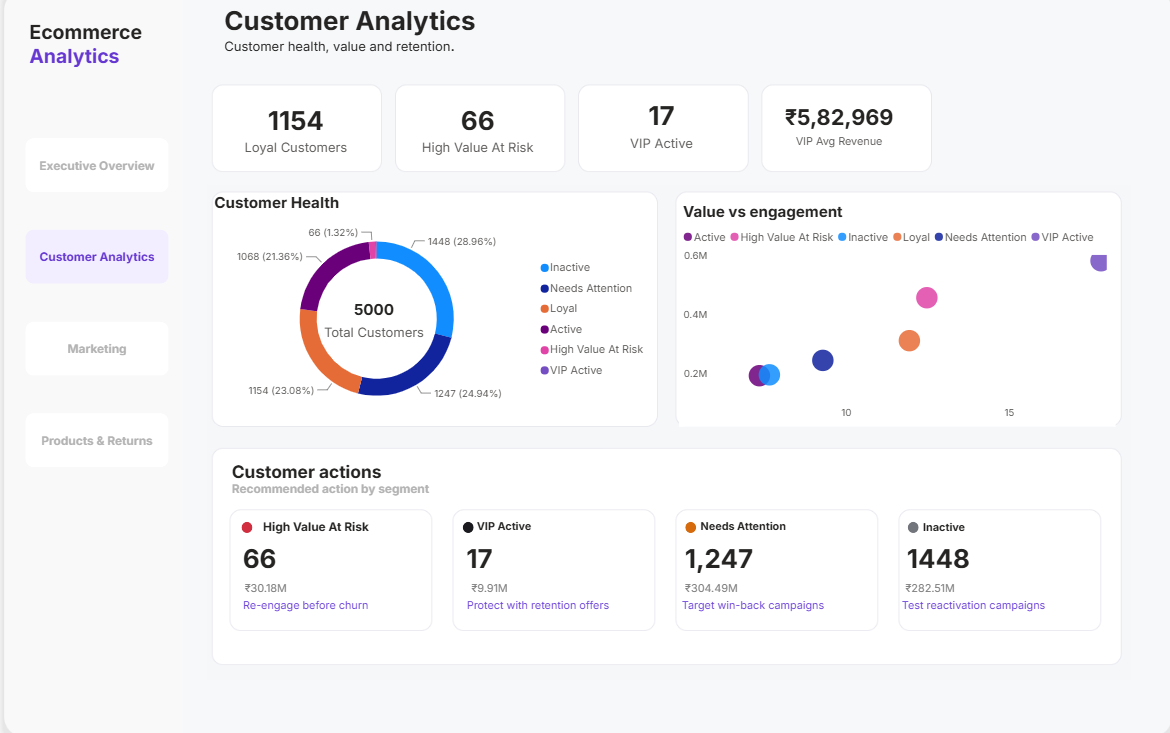

The page's visual inventory and layout, read from the dashboard file:
{"tool":"powerbi","page":{"name":"Customer Analytics","canvas":[1440,920],"ordinal":1},"visuals":[{"type":"card","fields":{"Values":["orders.Total Customers"]},"box":[388,342.7,135.8,118.9],"z":0},{"type":"scatterChart","title":"Value vs engagement","fields":{"Series":["customers.Customer_Segment"],"Category":["customers.Customer_Segment"],"Y":["customers.Avg Customer Revenue"],"X":["customers.Avg Customer Orders"]},"box":[832.1,257.8,538.8,277.9],"z":1000},{"type":"donutChart","title":"Customer Health","fields":{"Category":["customers.Customer_Segment"],"Y":["CountNonNull(customers.Customer_ID)"]},"box":[254.7,247,548,287.1],"z":2000},{"type":"pageNavigator","box":[25.9,178.2,177.5,407.5],"z":3000},{"type":"textbox","box":[25.9,30,177.5,109.6],"z":4000},{"type":"textbox","box":[266,9.3,566,106],"z":5000},{"type":"card","fields":{"Values":["customers.Loyal Customers"]},"box":[254.7,111.1,211.5,111.1],"z":6000},{"type":"card","fields":{"Values":["customers.High Value At Risk"]},"box":[483.2,111.1,203.8,111.1],"z":7000},{"type":"card","fields":{"Values":["customers.VIP Active"]},"box":[708.6,111.1,203.8,100.3],"z":8000},{"type":"card","fields":{"Values":["customers.VIP Avg Revenue"]},"box":[912.4,97.3,234.6,129.7],"z":9000},{"type":"card","fields":{"Values":["customers.High Value At Risk Customers"]},"box":[282.5,673.1,66.4,47.9],"z":10000},{"type":"card","fields":{"Values":["customers.VIP Active"]},"box":[552.7,673.1,66.4,47.9],"z":11000},{"type":"card","fields":{"Values":["customers.Needs Attention Customers"]},"box":[832.1,673.1,98.8,47.9],"z":12000},{"type":"card","fields":{"Values":["customers.Inactive Customers"]},"box":[1102.2,673.1,100.3,47.9],"z":13000},{"type":"card","fields":{"Values":["customers.High Value At Risk Revenue"]},"box":[290.2,711.7,66.4,47.9],"z":14000},{"type":"card","fields":{"Values":["customers.VIP Active Revenue"]},"box":[565,711.7,66.4,47.9],"z":15000},{"type":"card","fields":{"Values":["customers.Needs Attention Revenue"]},"box":[832.1,711.7,80.3,47.9],"z":16000},{"type":"card","fields":{"Values":["customers.Inactive Revenue"]},"box":[1102.2,711.7,80.3,47.9],"z":17000},{"type":"textbox","box":[276.3,571.2,308.7,74.1],"z":18000},{"type":"shape","box":[292.5,652,13.5,14],"z":19000},{"type":"shape","box":[565,652,13.5,14],"z":20000},{"type":"shape","box":[839.5,652,13.5,14],"z":21000},{"type":"shape","box":[1115,652,13.5,14],"z":22000},{"type":"textbox","box":[313.8,645,223.8,33.8],"z":23000},{"type":"textbox","box":[578.8,645,223.8,33.8],"z":24000},{"type":"textbox","box":[853.8,645,223.8,33.8],"z":25000},{"type":"textbox","box":[1128.8,646.2,223.8,33.8],"z":26000},{"type":"textbox","box":[290,741.4,222.9,34.3],"z":27000},{"type":"textbox","box":[565.7,741.4,222.9,34.3],"z":28000},{"type":"textbox","box":[831.4,741.4,222.9,34.3],"z":29000},{"type":"textbox","box":[1102.9,741.4,222.9,34.3],"z":30000}]}

Visuals, with their boxes on the page's 1440x920 design canvas (x1, y1, x2, y2). These are canvas units, not pixel positions in the 1170x733 screenshot, which may show the page scaled, cropped or inside an application window:
card - orders.Total Customers: crop(388, 343, 524, 462)
"Value vs engagement" scatterChart: crop(832, 258, 1371, 536)
"Customer Health" donutChart: crop(255, 247, 803, 534)
pageNavigator: crop(26, 178, 203, 586)
textbox: crop(26, 30, 203, 140)
textbox: crop(266, 9, 832, 115)
card - customers.Loyal Customers: crop(255, 111, 466, 222)
card - customers.High Value At Risk: crop(483, 111, 687, 222)
card - customers.VIP Active: crop(709, 111, 912, 211)
card - customers.VIP Avg Revenue: crop(912, 97, 1147, 227)
card - customers.High Value At Risk Customers: crop(282, 673, 349, 721)
card - customers.VIP Active: crop(553, 673, 619, 721)
card - customers.Needs Attention Customers: crop(832, 673, 931, 721)
card - customers.Inactive Customers: crop(1102, 673, 1202, 721)
card - customers.High Value At Risk Revenue: crop(290, 712, 357, 760)
card - customers.VIP Active Revenue: crop(565, 712, 631, 760)
card - customers.Needs Attention Revenue: crop(832, 712, 912, 760)
card - customers.Inactive Revenue: crop(1102, 712, 1182, 760)
textbox: crop(276, 571, 585, 645)
shape: crop(292, 652, 306, 666)
shape: crop(565, 652, 578, 666)
shape: crop(840, 652, 853, 666)
shape: crop(1115, 652, 1128, 666)
textbox: crop(314, 645, 538, 679)
textbox: crop(579, 645, 803, 679)
textbox: crop(854, 645, 1078, 679)
textbox: crop(1129, 646, 1353, 680)
textbox: crop(290, 741, 513, 776)
textbox: crop(566, 741, 789, 776)
textbox: crop(831, 741, 1054, 776)
textbox: crop(1103, 741, 1326, 776)
